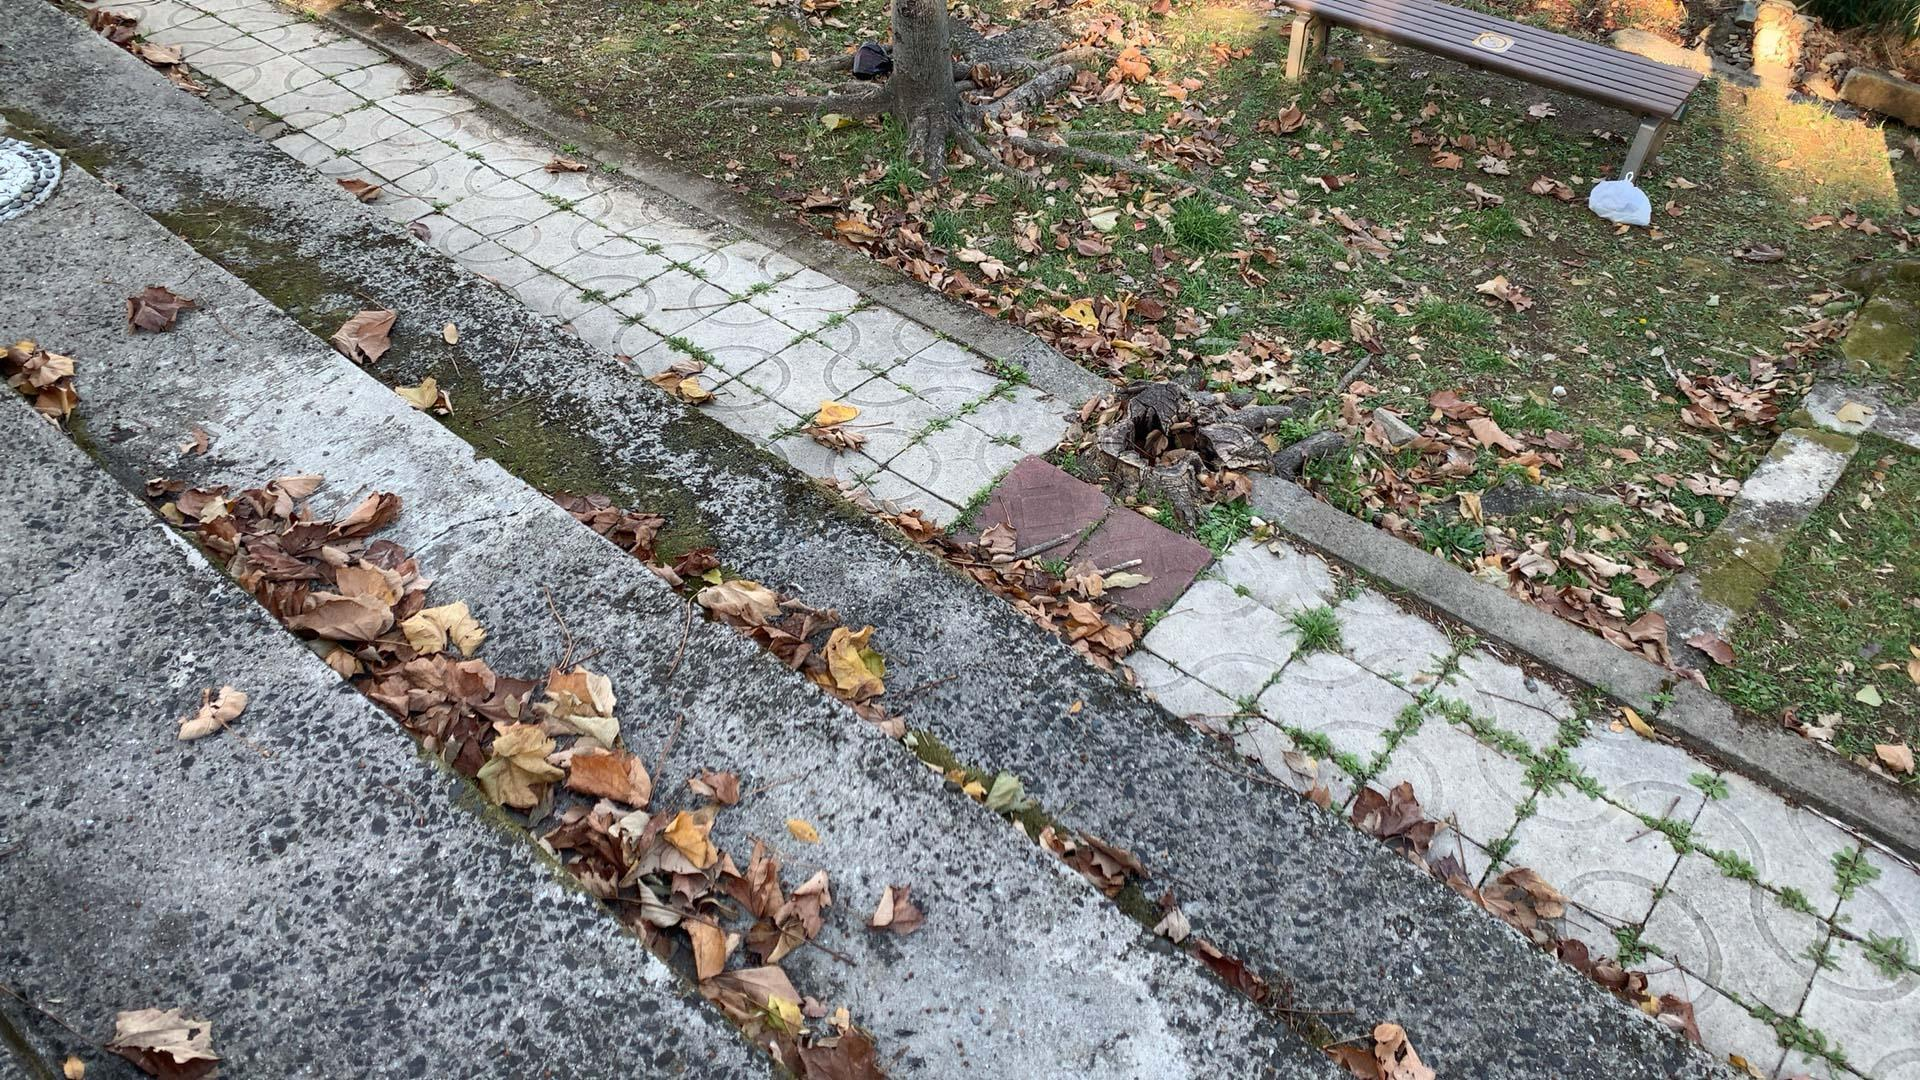white_bag: (1578, 166, 1662, 237)
